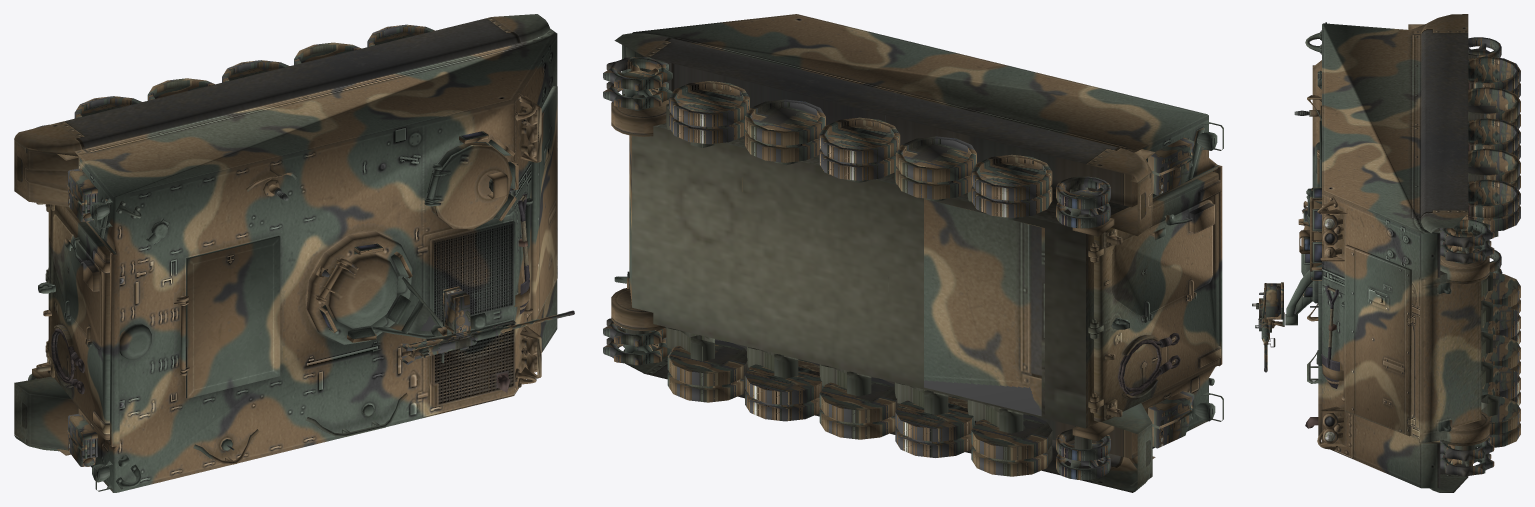
File: m113a1_notrack_transformed.obj
3 renders of one model, left to right at view 1: azimuth 30°, elevation 25°; view 2: azimuth 150°, elevation 25°; view 3: azimuth 270°, elevation 25°, orthographic. The views are drawn at different scales.
Size of the model in its own units: 4.74 by 2.69 by 2.48.
Materials: 1 (1 with a texture image).
